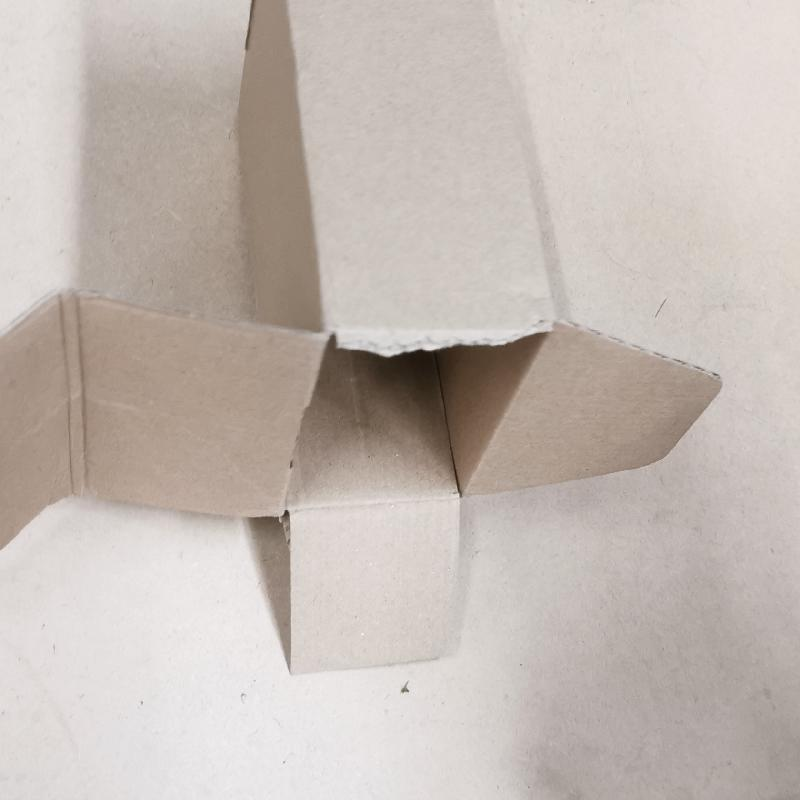boxes: (2, 7, 724, 671)
